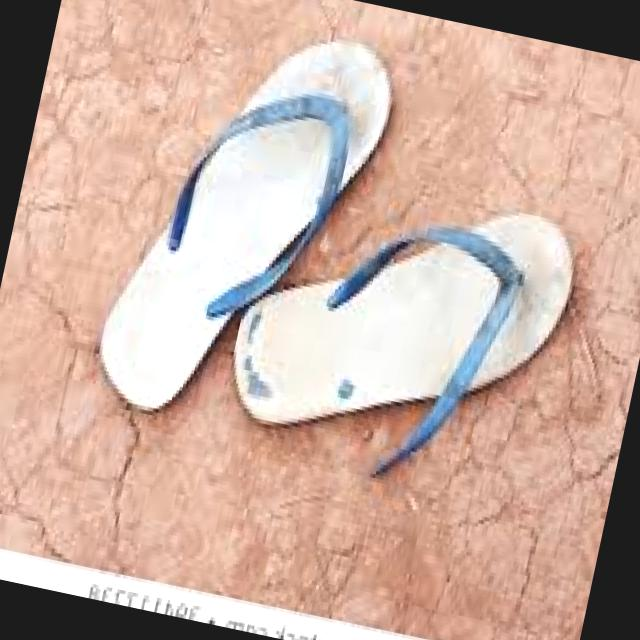dep: (99, 39, 390, 411), (233, 217, 572, 459)
